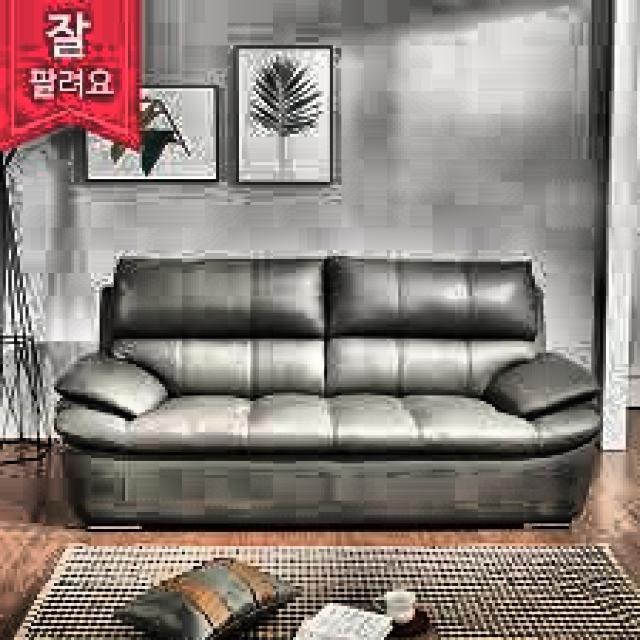sofa: (74, 248, 603, 538)
